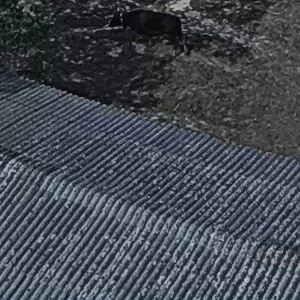cow: (110, 6, 201, 60)
